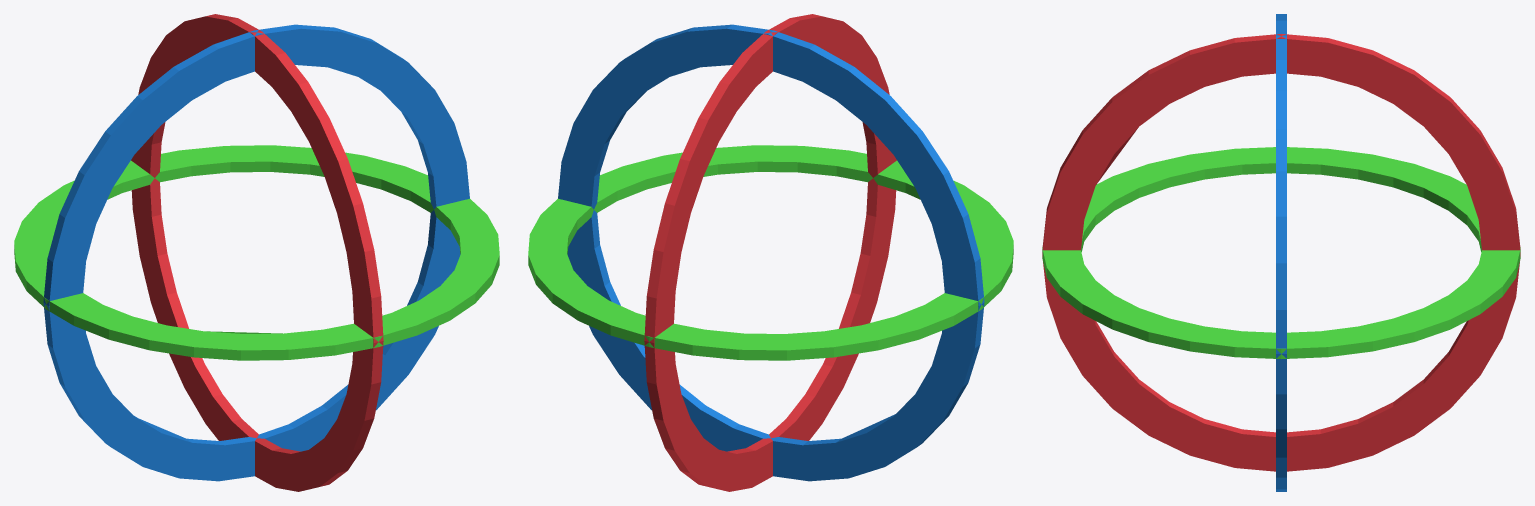
The model's file is rotate1.fbx.
3 views of the same model, side by side, from view 1: azimuth 30°, elevation 25°; view 2: azimuth 150°, elevation 25°; view 3: azimuth 270°, elevation 25° (orthographic).
Parts seen in each view (by area): view 1: RollBlue, PitchRed, YawGreen; view 2: RollBlue, PitchRed, YawGreen; view 3: PitchRed, YawGreen, RollBlue.
Part boxes in pixels (x1,y1,x2,y2): RollBlue: (43, 24, 469, 481); PitchRed: (131, 14, 383, 491); YawGreen: (14, 145, 499, 360); RollBlue: (558, 24, 984, 481); PitchRed: (644, 14, 896, 491); YawGreen: (528, 145, 1013, 360); PitchRed: (1042, 34, 1520, 471); YawGreen: (1042, 147, 1520, 358); RollBlue: (1276, 14, 1286, 491).
Size of the model in its own units: 200 by 200 by 200.
